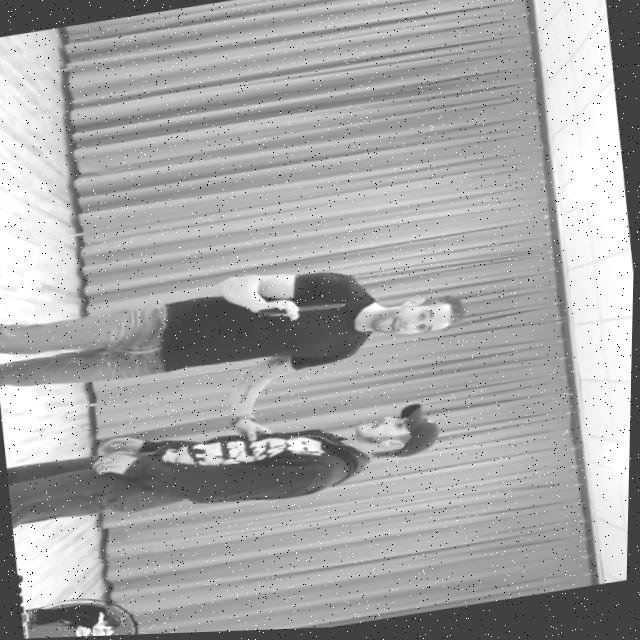knife: (297, 302, 347, 317)
